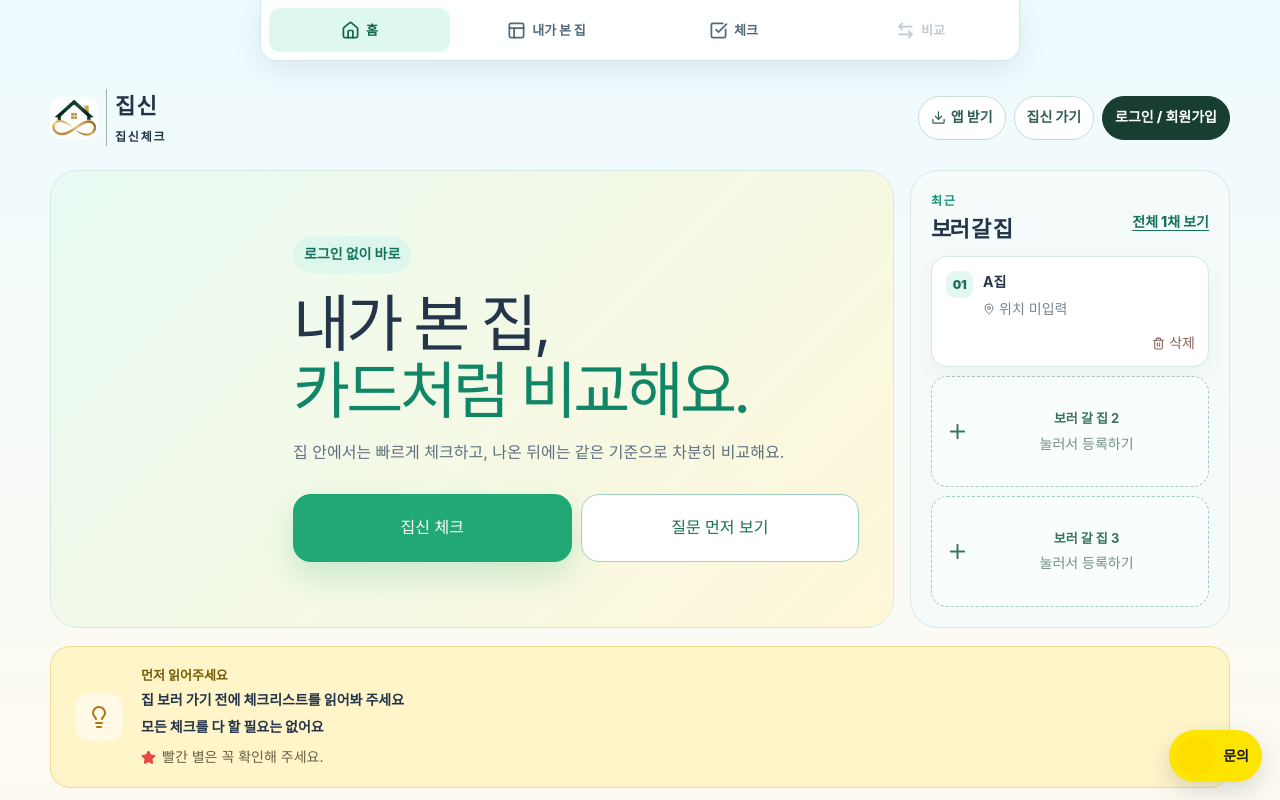
Test: 집신체크 V2 등록 › 계정 저장 직전 로컬 저장이 실패하면 이동하지 않고 알린다
This screenshot has width=1280, height=800.
Step 1. Click the button with aria-label "최근 집 열기: A집" → (1070, 312), box [931,256,1209,367]
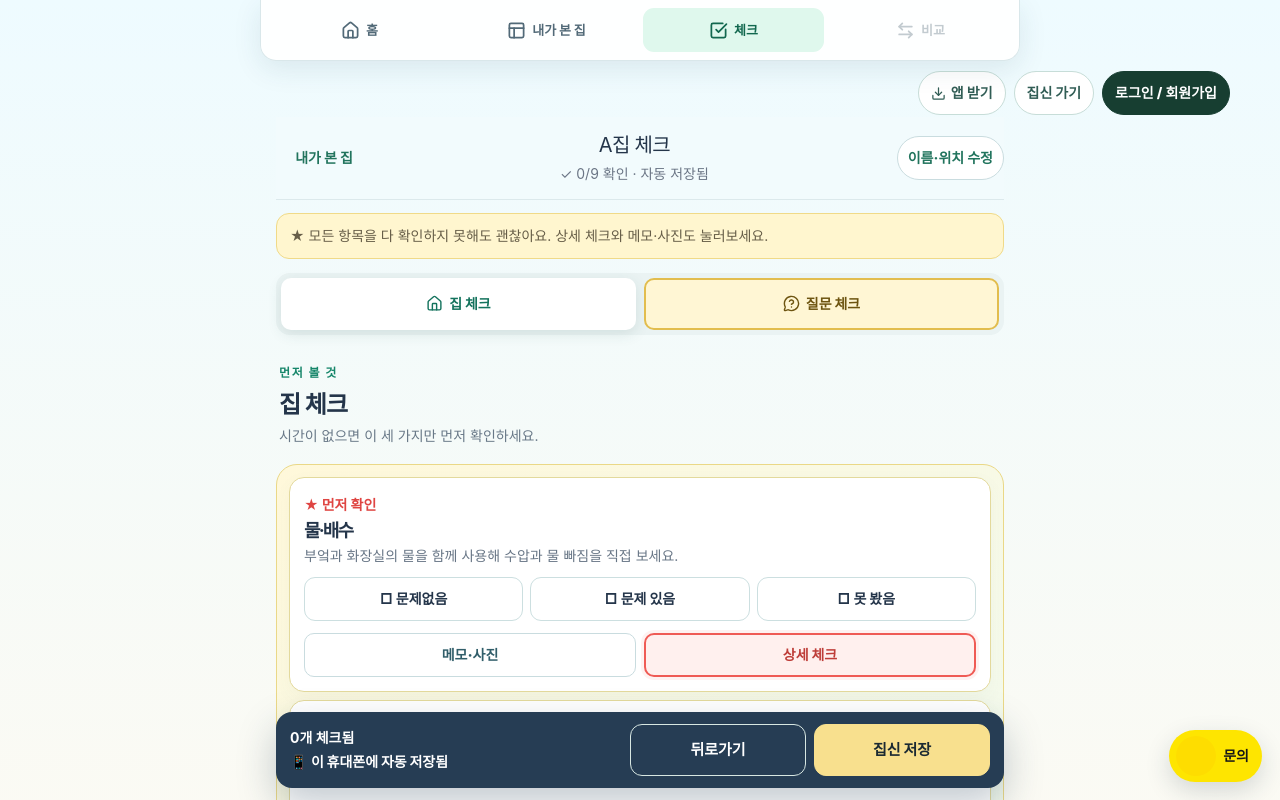
Step 2. Click the button "집신 저장" → (902, 750), box [814,724,990,776]
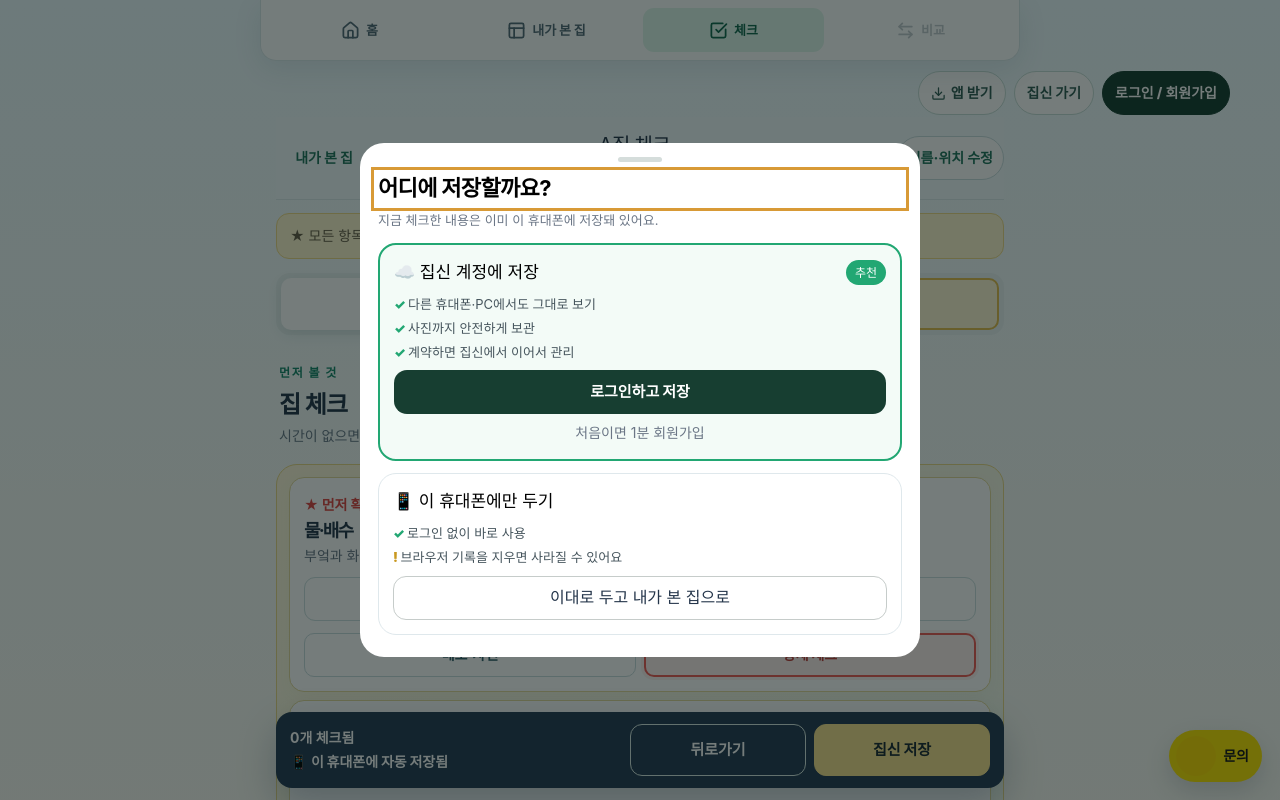
Step 3. Click the link "로그인하고 저장" → (640, 392), box [394,370,886,414]
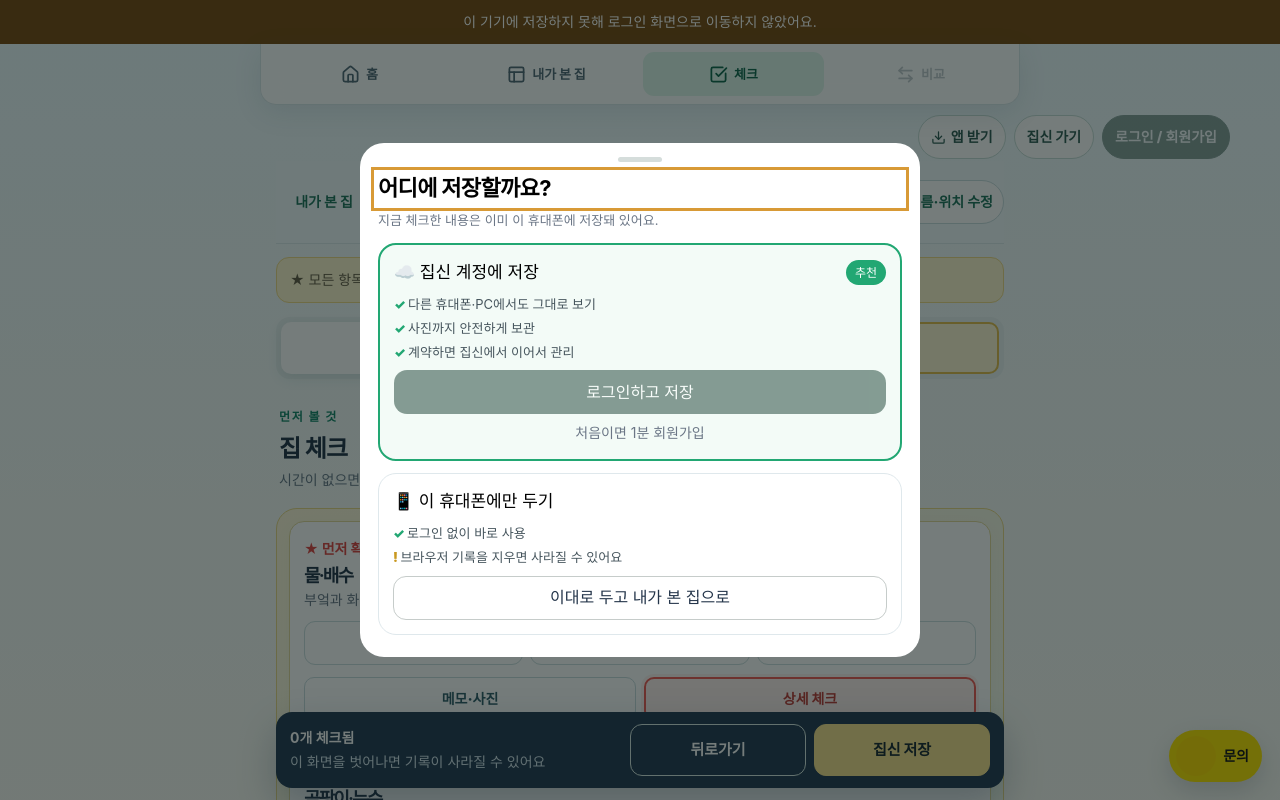
Now the message shows "로그인 화면으로 이동하지 않았어요", box [463,13,817,30]
